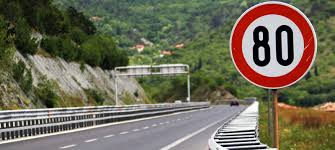Speed_limit_80km: (229, 1, 317, 88)
